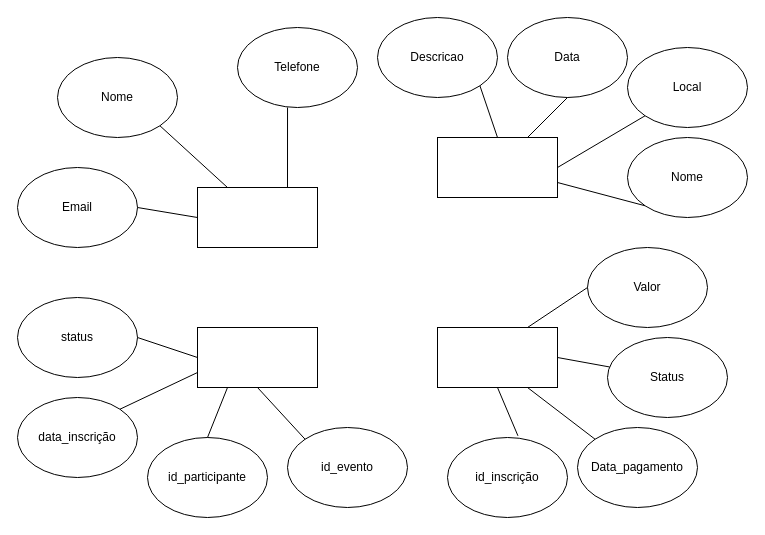
The diagram is 765 pixels wide and 535 high, and some of its shapes have lost their labels. Each missing label, with the centre of its shape:
"Evento" belongs at pixel 497 167.
"Inscrição" belongs at pixel 257 357.
"Pagamento" belongs at pixel 497 357.
"Participante" belongs at pixel 257 217.
